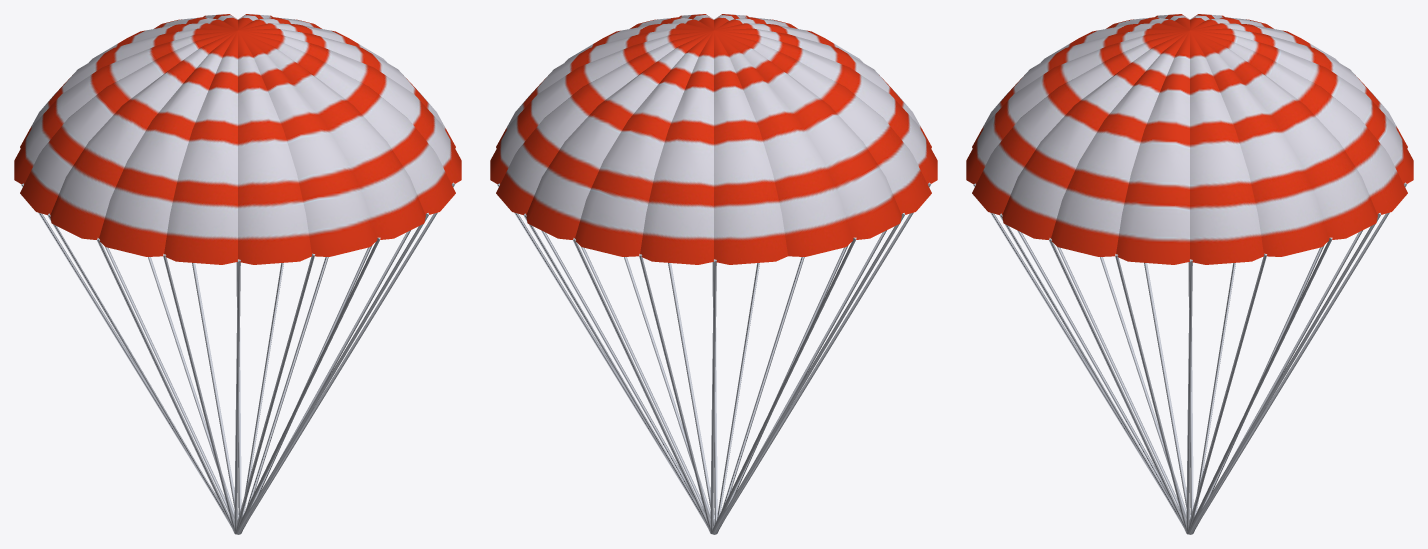
File: JiangLuoSan.FBX
3 views of the same model, side by side, from view 1: azimuth 30°, elevation 25°; view 2: azimuth 150°, elevation 25°; view 3: azimuth 270°, elevation 25° (orthographic).
Parts seen in each view (by area): view 1: JiangLuoSan; view 2: JiangLuoSan; view 3: JiangLuoSan.
Part boxes in pixels (left/top/right/bottom): JiangLuoSan: left=14, top=14, right=461, bottom=534; JiangLuoSan: left=490, top=14, right=937, bottom=534; JiangLuoSan: left=966, top=14, right=1413, bottom=534.
Bounding box in the file's own units: 349 × 432 × 348.
